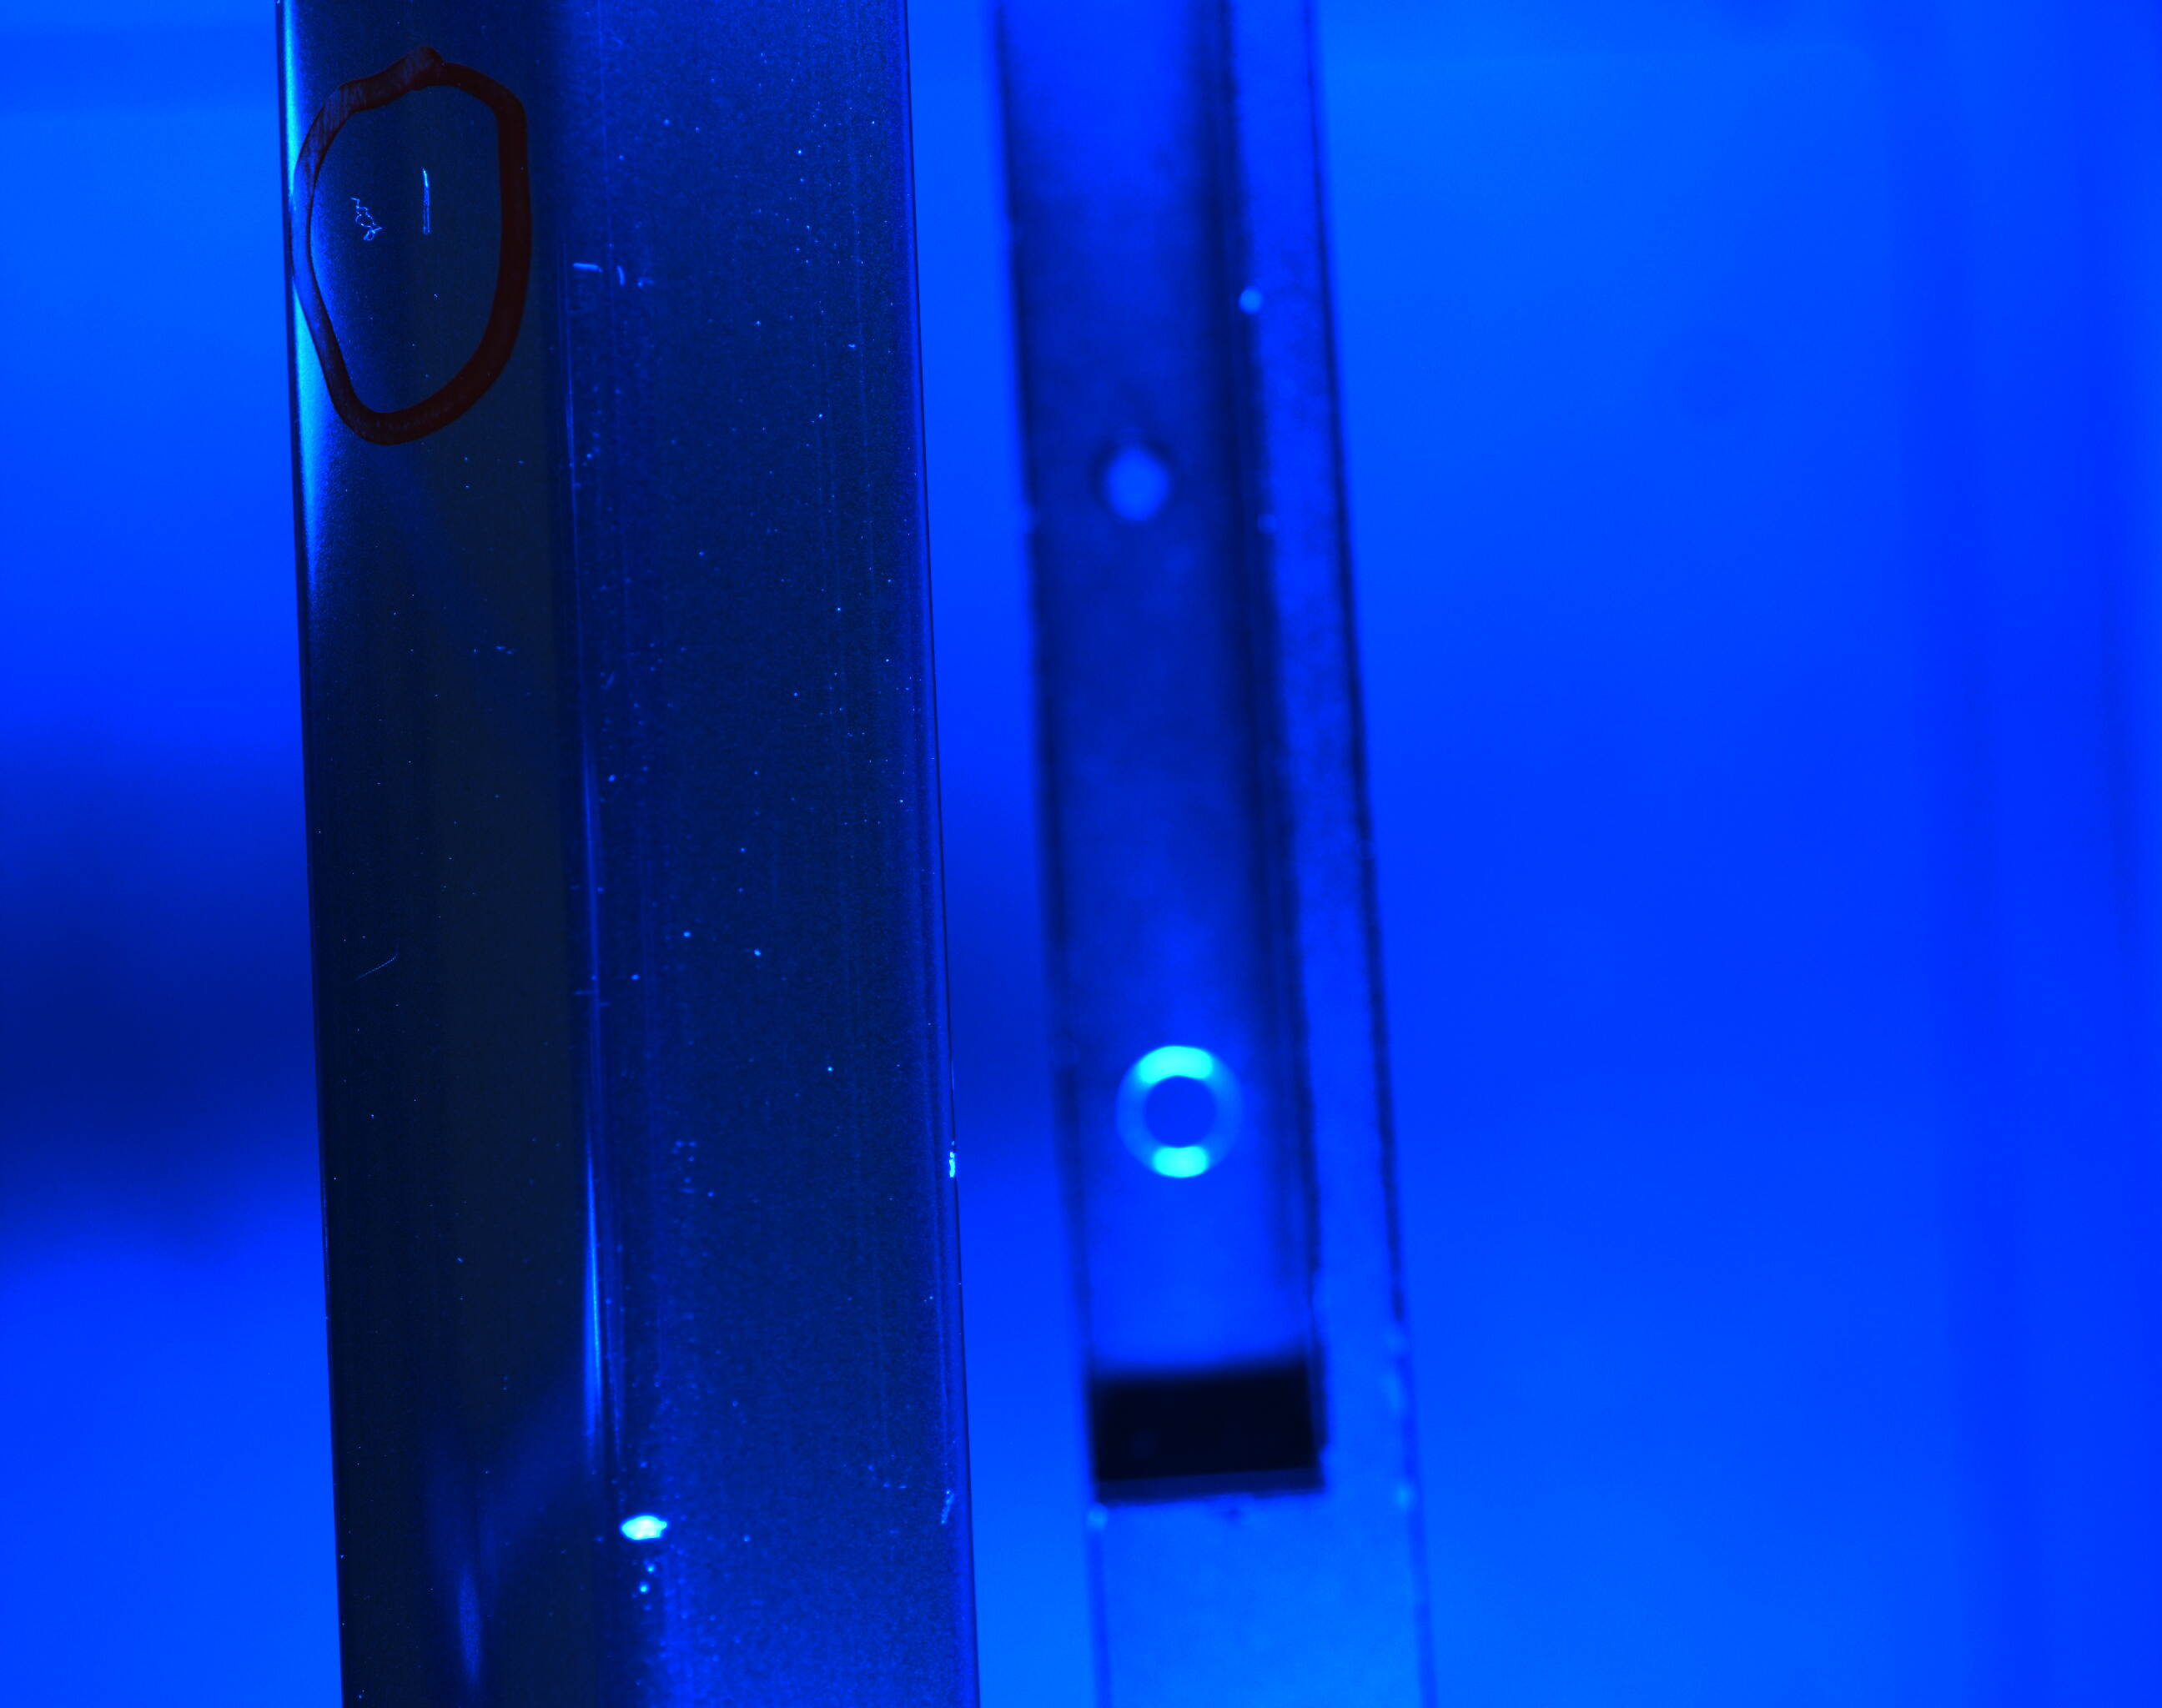NG: (337, 161, 447, 256), (590, 1492, 684, 1597), (562, 239, 639, 314), (934, 1130, 967, 1201), (932, 1478, 962, 1541)
